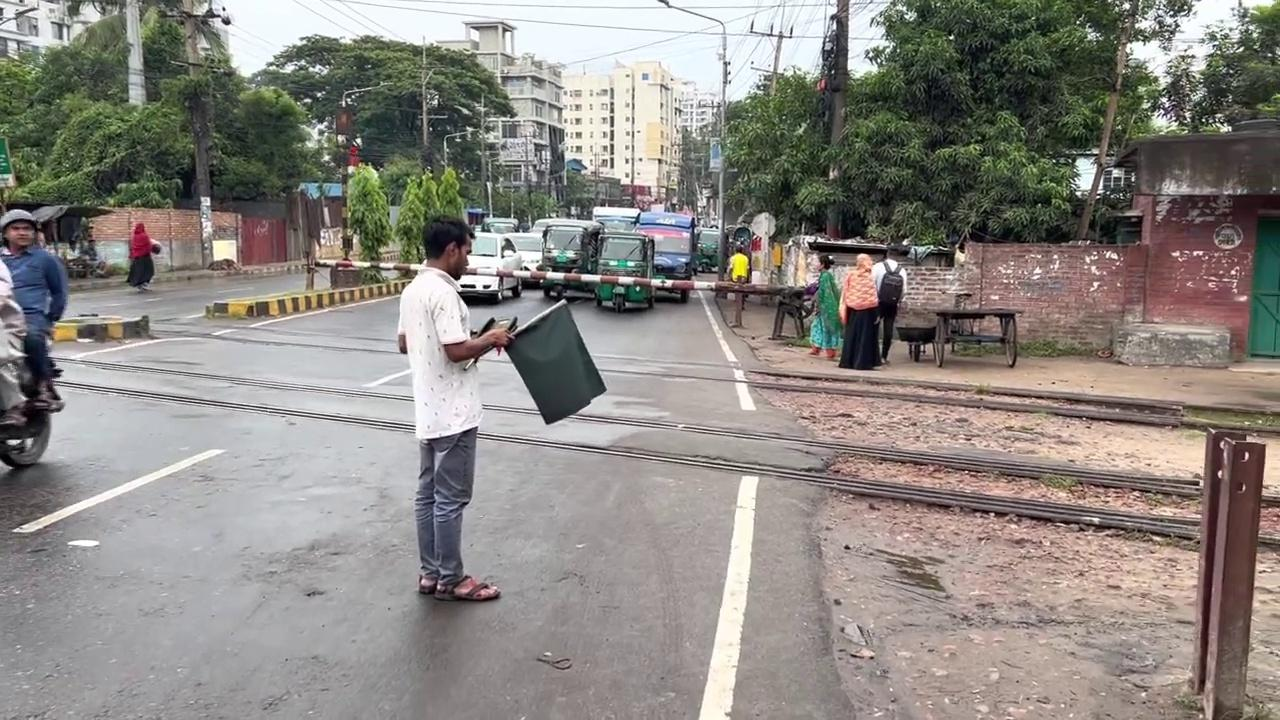Car: (204, 275, 413, 320)
Fence: (396, 214, 515, 601), (0, 208, 68, 411), (837, 252, 881, 370), (871, 243, 909, 364), (805, 252, 842, 358), (125, 222, 160, 291)
Garbage: (658, 0, 728, 283), (824, 0, 850, 240)
Motorcycle: (34, 348, 1277, 553)
Railroad-crossing: (344, 162, 392, 283)
